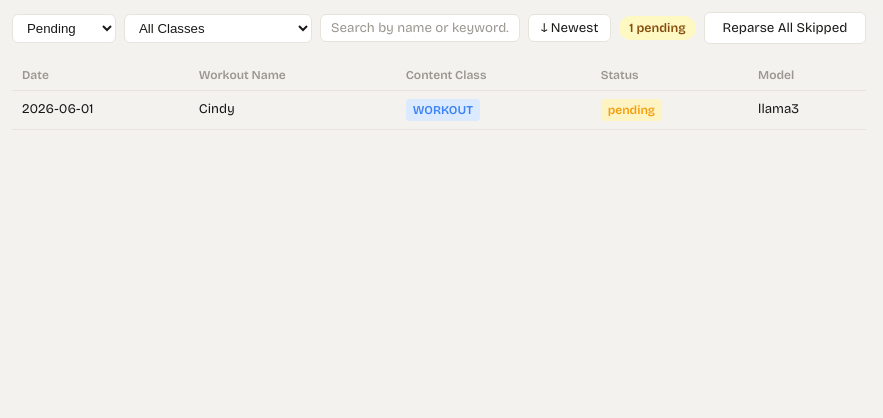
Test case: ReviewQueue › opens the detail panel with action buttons when a row is clicked
This screenshot has width=883, height=418.
Click the row with class "review-row" at (439, 110), box [12,90,866,130]
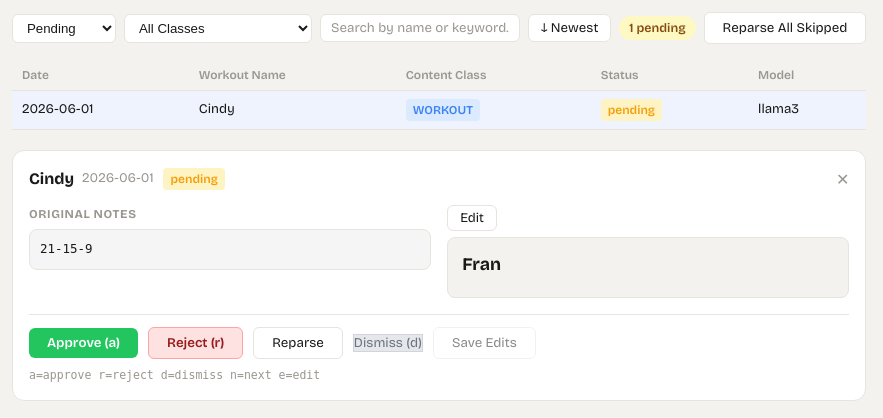
Now the element with class "detail-panel" is shown, box [12,150,866,401]
Now the element with class "detail-header" shows "Cindy", box [29,169,74,188]
Now the button with class "btn-success" shows "Approve", box [29,328,138,358]
